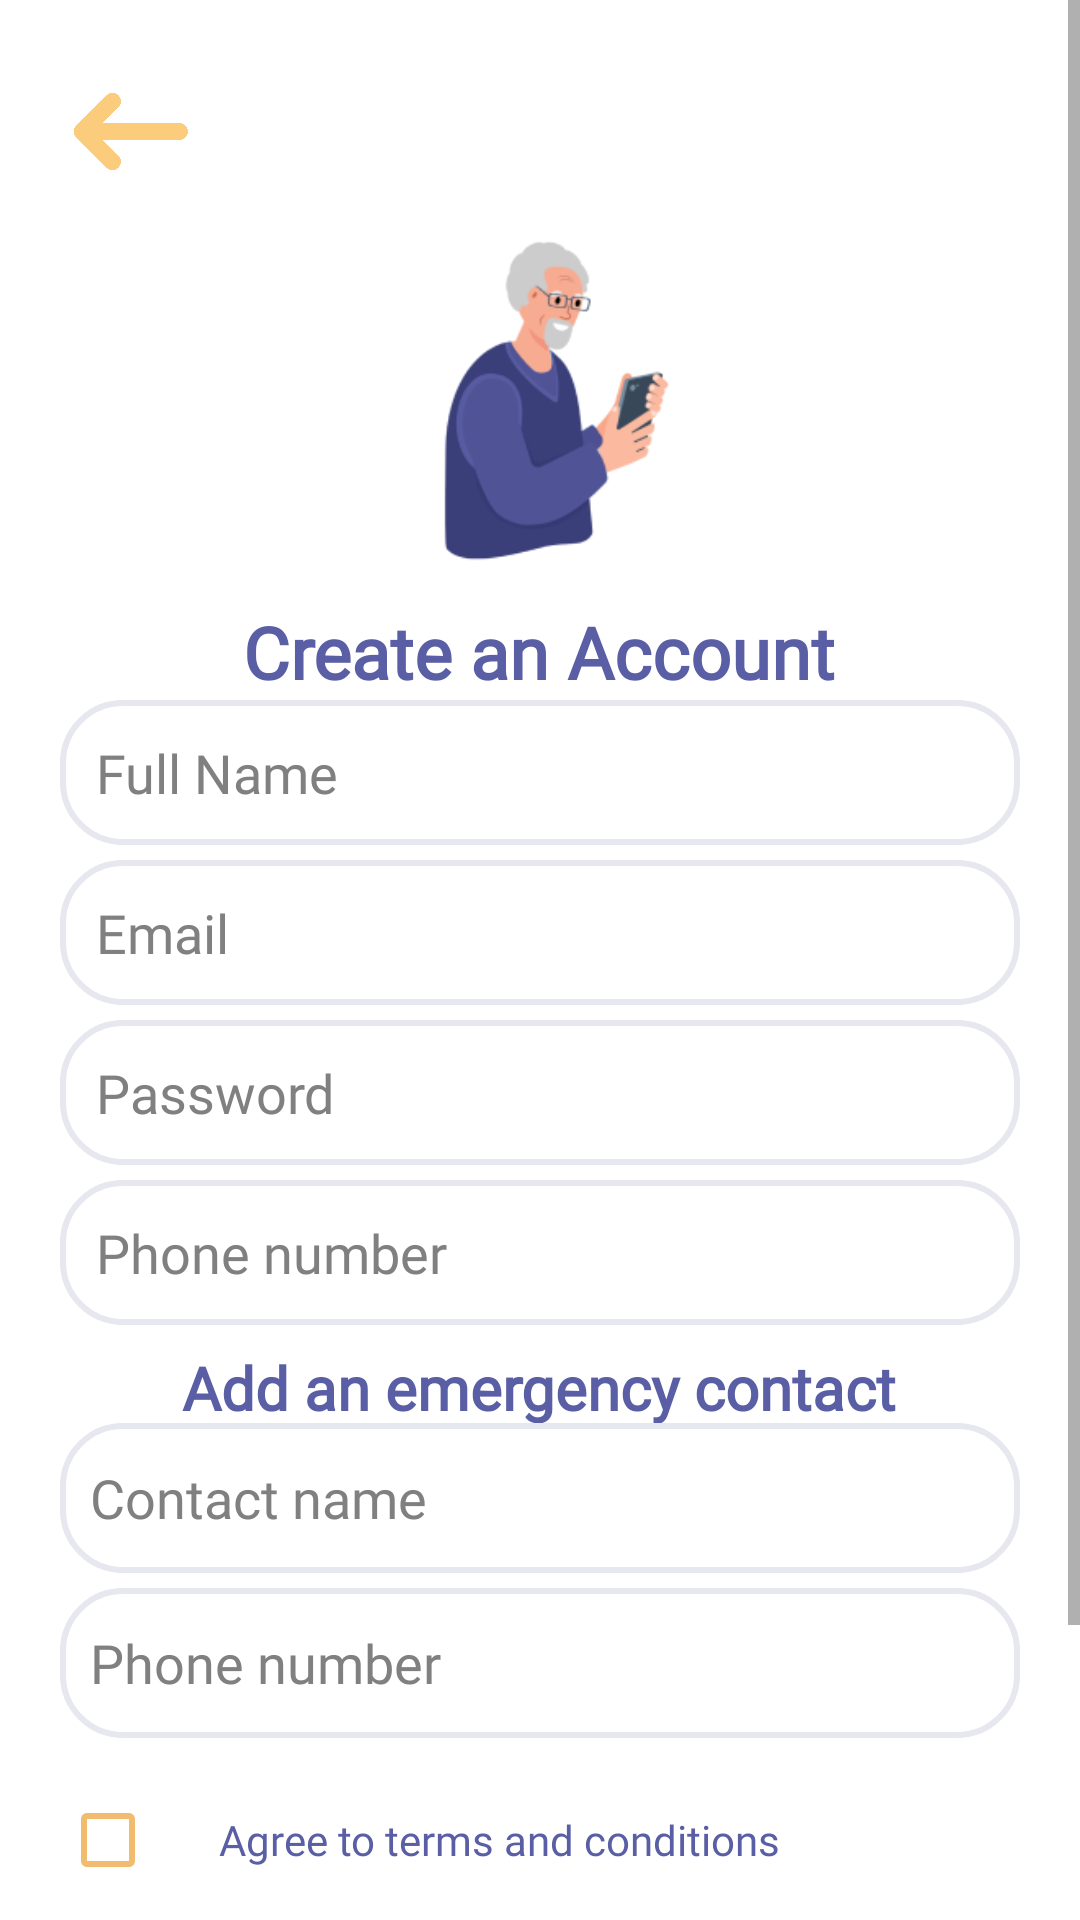

Point at icon controls on the screen. Image size 1080*1920, points as (x,y).
Back Arrow: (131,131)
Signup Image: (556,401)
